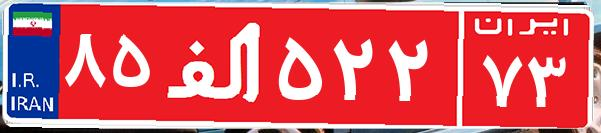2: (385, 28, 445, 110), (330, 28, 385, 110)
3: (525, 38, 570, 115)
5: (273, 28, 330, 110), (110, 28, 158, 105)
7: (475, 38, 525, 113)
8: (57, 26, 110, 107)
الف: (158, 15, 273, 115)
